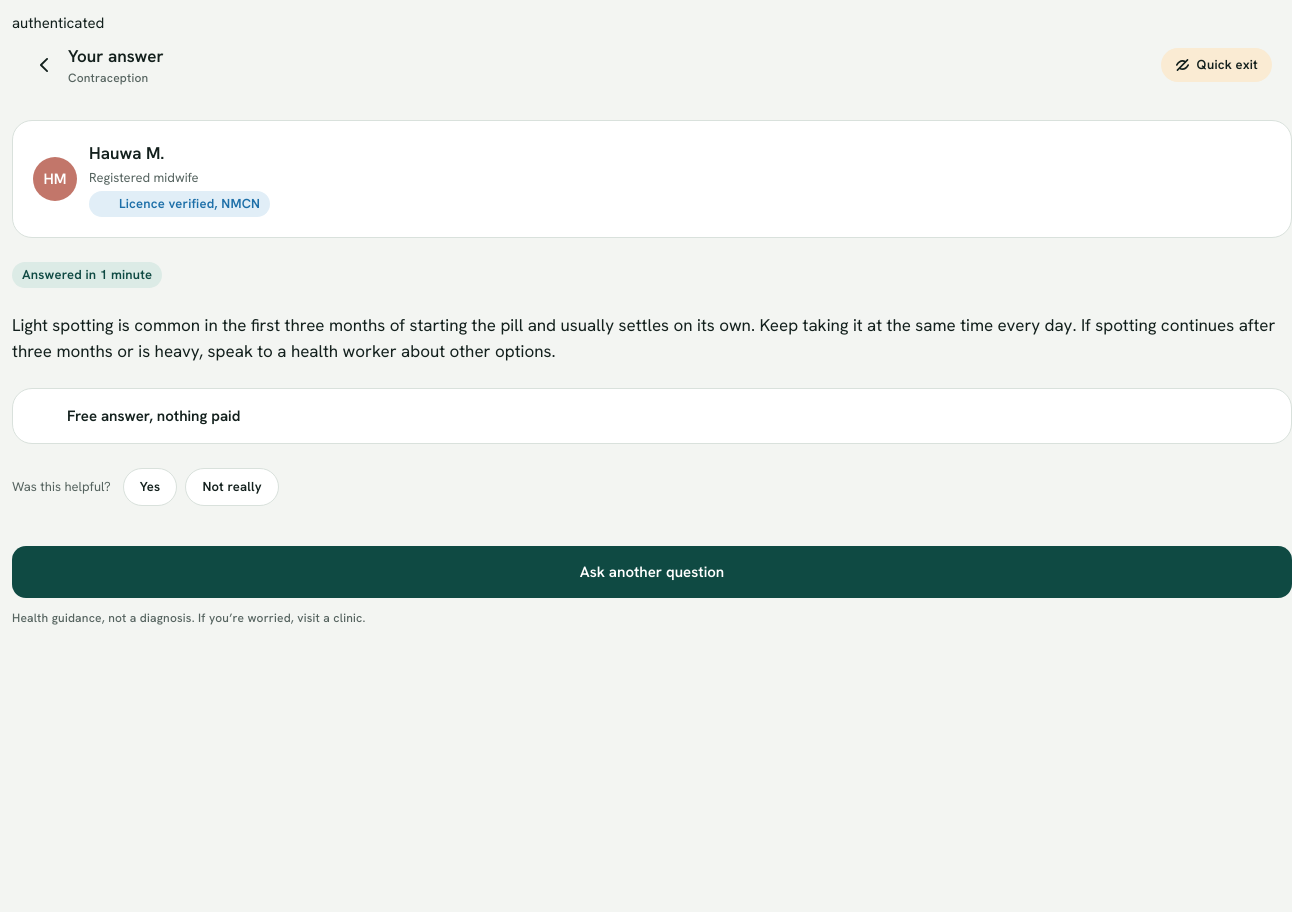
Test case: Nurse response (W11) › collects the answer, shows it and saves her rating
This screenshot has width=1292, height=912.
Expected: the text "Licence verified, NMCN" is shown, [89,191,270,217]
Click the button "Yes": (150, 487) [123,468,177,506]
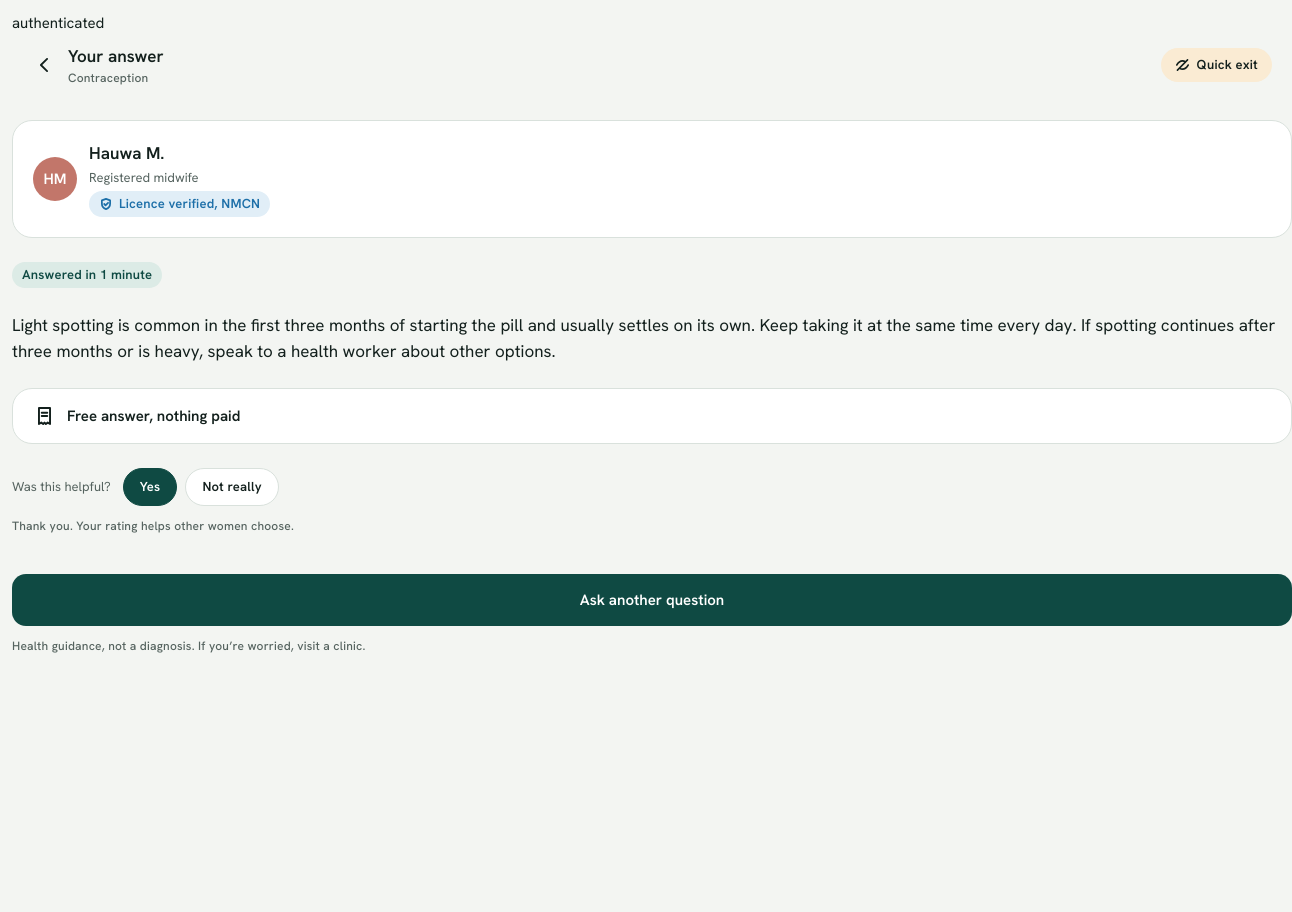
Expected: the text "Thank you. Your rating helps other women choose." is shown, [12,518,294,534]
